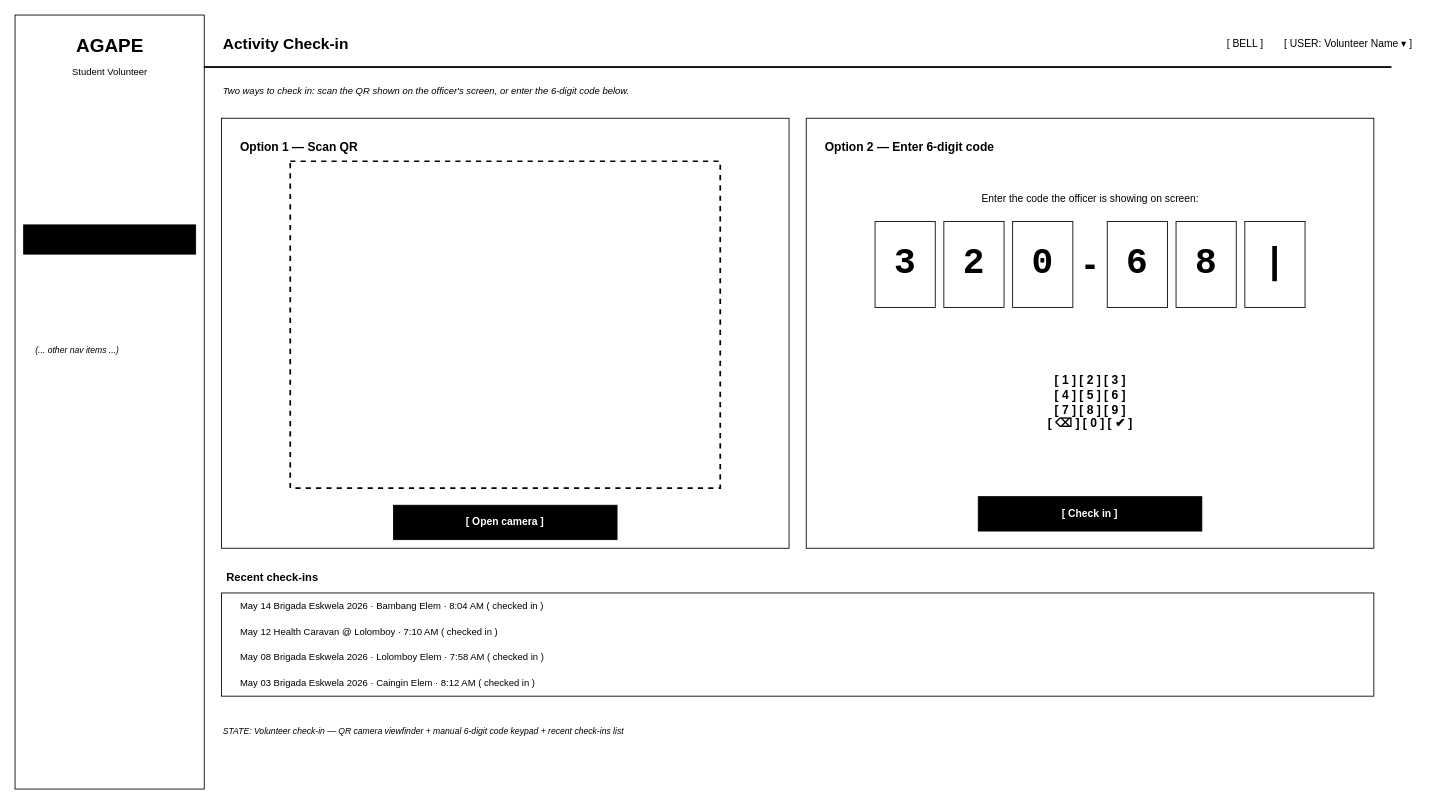
The diagram is 1441 pixels wide and 804 high, and some of its shapes have lost their labels. The shapes that lost their labels are listed below. From the top down, each one's centre as x and y in pixels, then its label:
the point at 109,239: [x] Check-in
the point at 505,324: ( camera viewfinder — point at the QR shown on the officer's screen )
